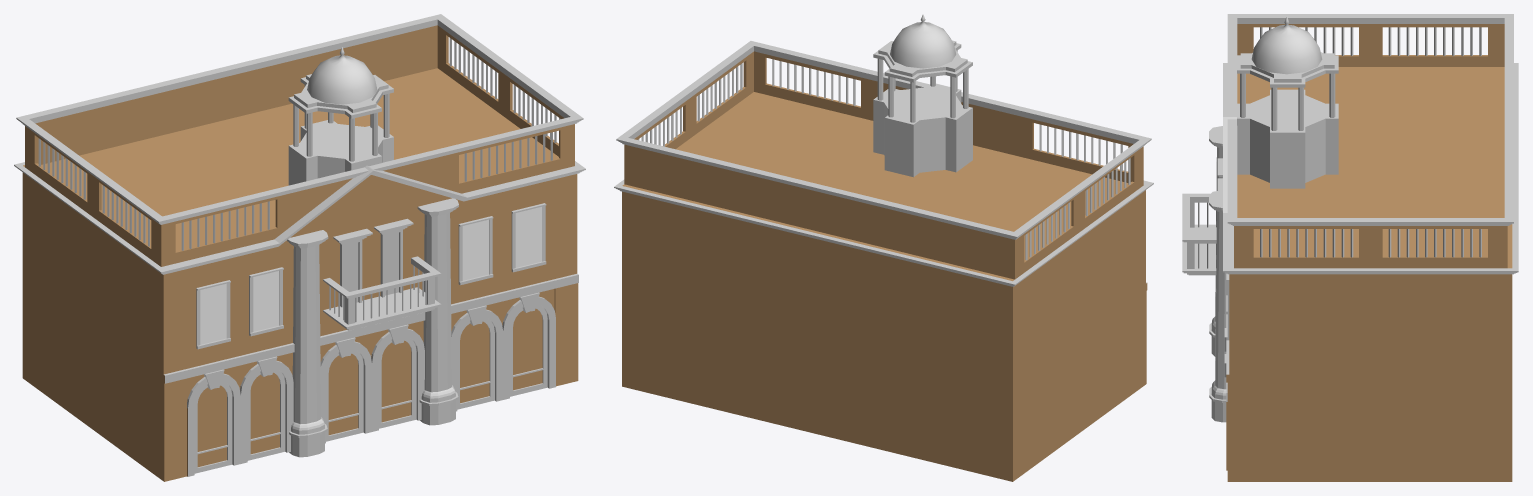
The model's file is townHall.fbx.
3 renders of one model, left to right at view 1: azimuth 30°, elevation 25°; view 2: azimuth 150°, elevation 25°; view 3: azimuth 270°, elevation 25°, orthographic. The views are drawn at different scales.
Visible parts, largest first — view 1: townHall; view 2: townHall; view 3: townHall.
Part boxes in pixels (x1,y1,x2,y2): townHall: (14, 14, 585, 481); townHall: (614, 14, 1153, 481); townHall: (1182, 14, 1518, 481).
Bounding box in the file's own units: 627 × 515 × 428.
